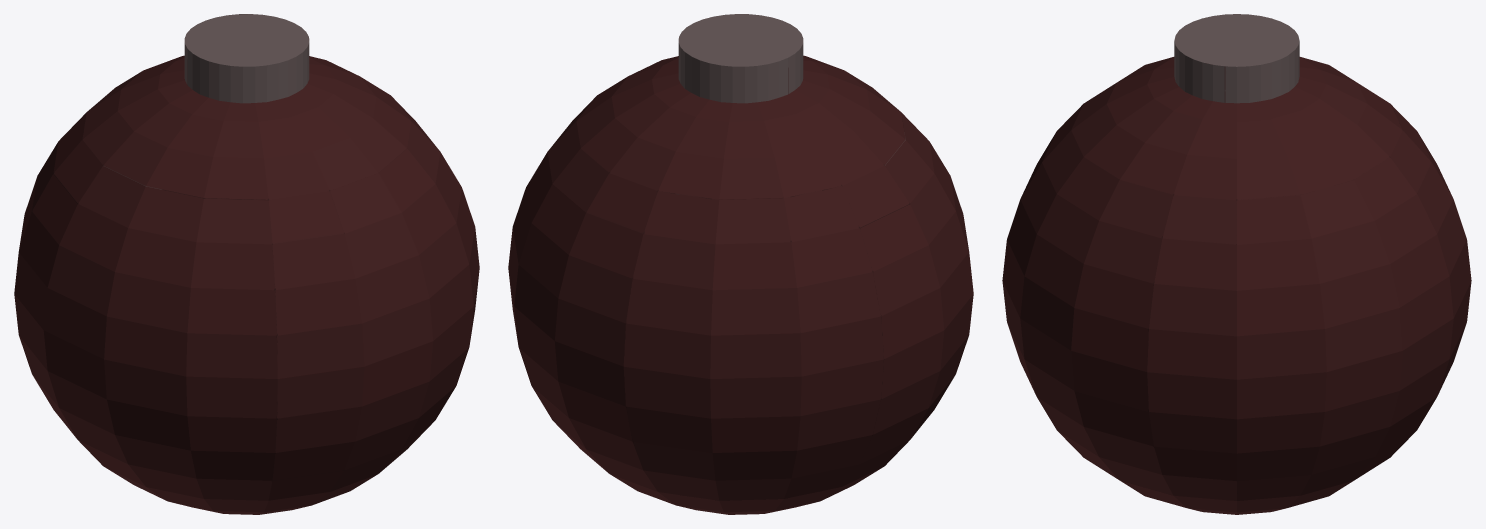
Rendered from bomb.obj.
3 views of the same model, side by side, from view 1: azimuth 30°, elevation 25°; view 2: azimuth 150°, elevation 25°; view 3: azimuth 270°, elevation 25° (orthographic).
Parts seen in each view (by area): view 1: 円柱_円柱.001; view 2: 円柱_円柱.001; view 3: 円柱_円柱.001.
Part boxes in pixels (x1,y1,x2,y2): 円柱_円柱.001: (14, 14, 479, 514); 円柱_円柱.001: (508, 14, 973, 514); 円柱_円柱.001: (1002, 14, 1471, 514).
Bounding box in the file's own units: 3 × 3.2 × 3.
Materials: 1 (1 with a texture image).
